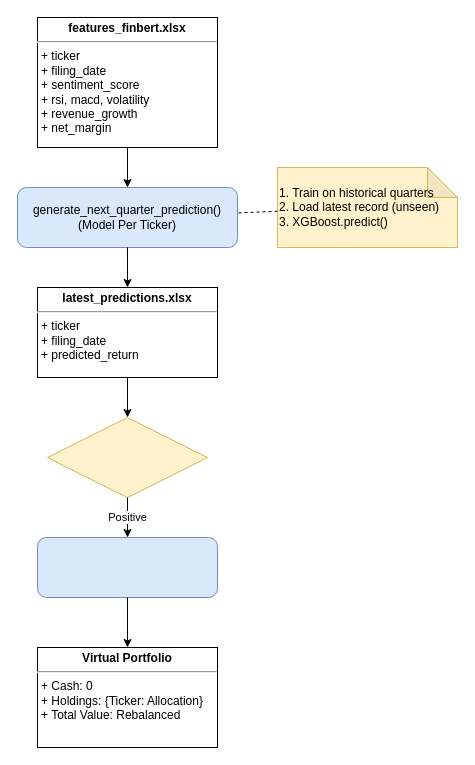
This 475x765 diagram has some shape labels left out. Each missing label, with the box of its shape:
Conviction Weighting w_i = pred_i / sum(pred): (36, 536, 218, 598)
Filtering: predicted_return > 0: (46, 416, 208, 498)
